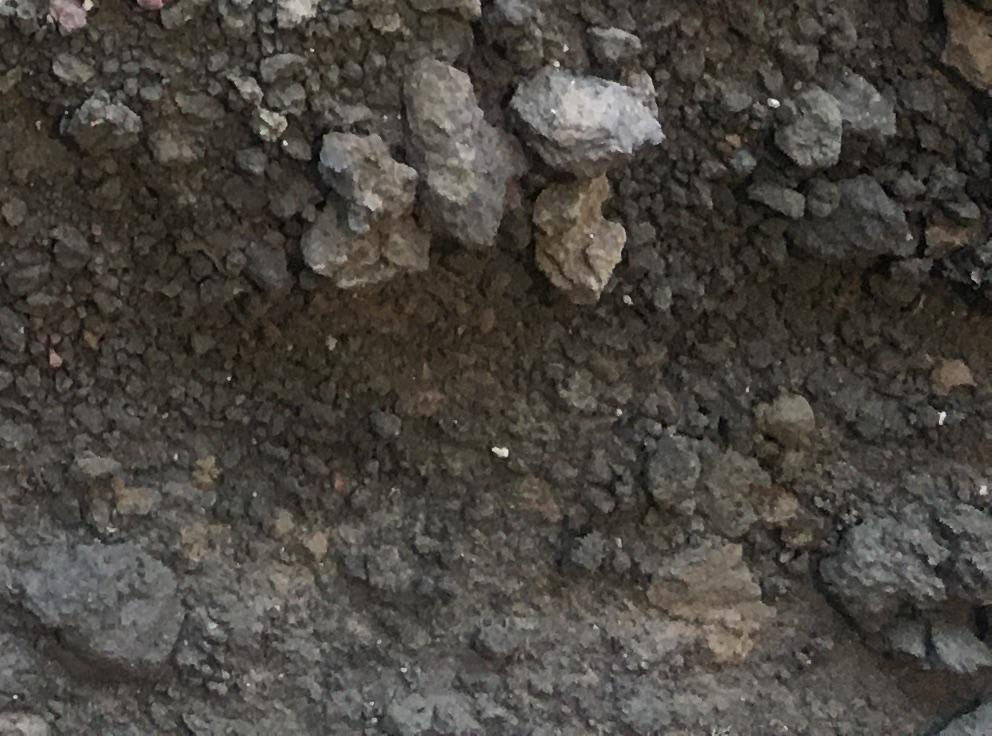block: (19, 537, 180, 677), (401, 50, 511, 244), (305, 129, 419, 285), (511, 68, 669, 169), (525, 176, 630, 304), (800, 172, 909, 263), (773, 89, 851, 174)
